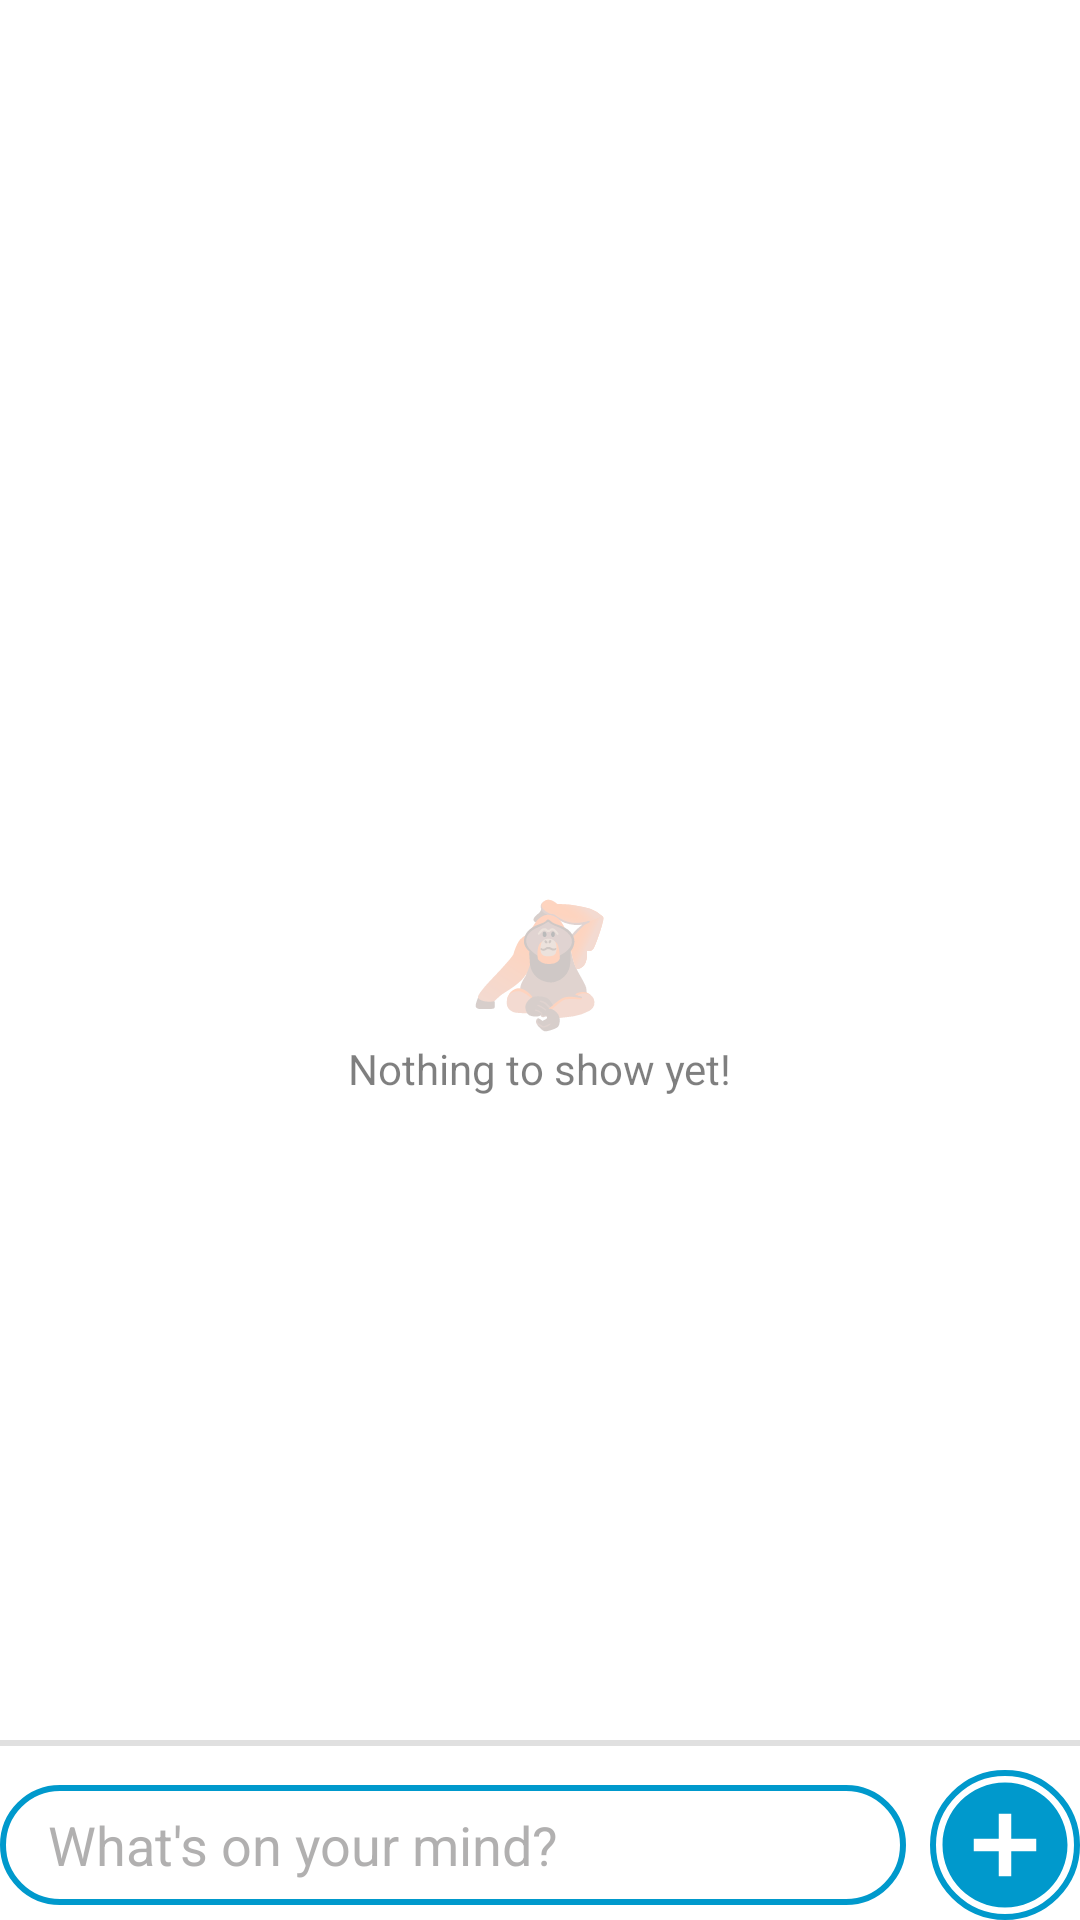

Icon click points for this 1080px x 1920px phone screenshot, format (x=x, y=y):
add circle: (x=1005, y=1845)
